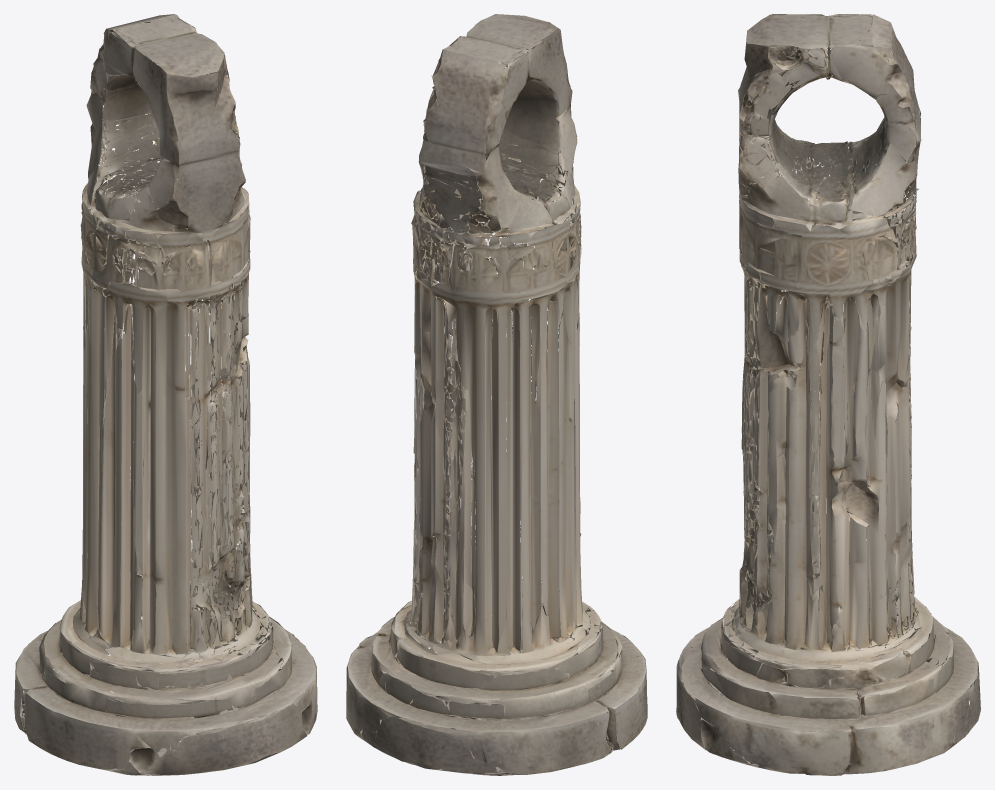
File: title.glb
The picture shows the model from 3 angles, left to right: view 1: azimuth 30°, elevation 25°; view 2: azimuth 150°, elevation 25°; view 3: azimuth 270°, elevation 25°; orthographic projection.
Visible parts, largest first — view 1: node_0; view 2: node_0; view 3: node_0.
Part boxes in pixels (bbox=[...]): node_0: bbox=[14, 14, 317, 775]; node_0: bbox=[346, 14, 647, 775]; node_0: bbox=[676, 14, 980, 775].
Bounding box in the file's own units: 1.06 × 2.6 × 1.05.
Materials: 1 (1 with a texture image).
